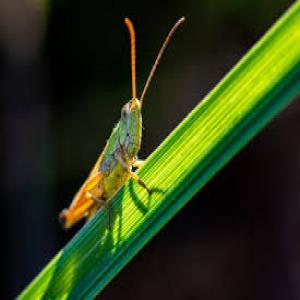locust: (60, 57, 162, 222)
